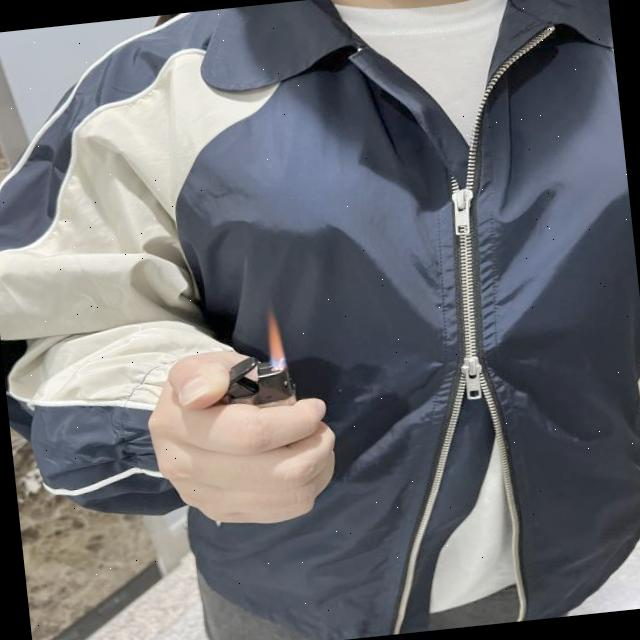fire: (261, 310, 287, 370)
